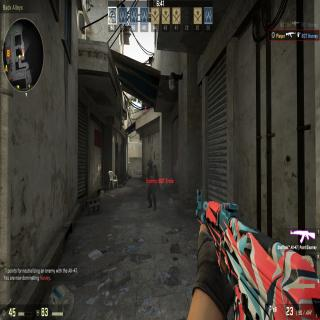CT-Body: (146, 159, 157, 210)
CT-Head: (147, 159, 154, 169)
